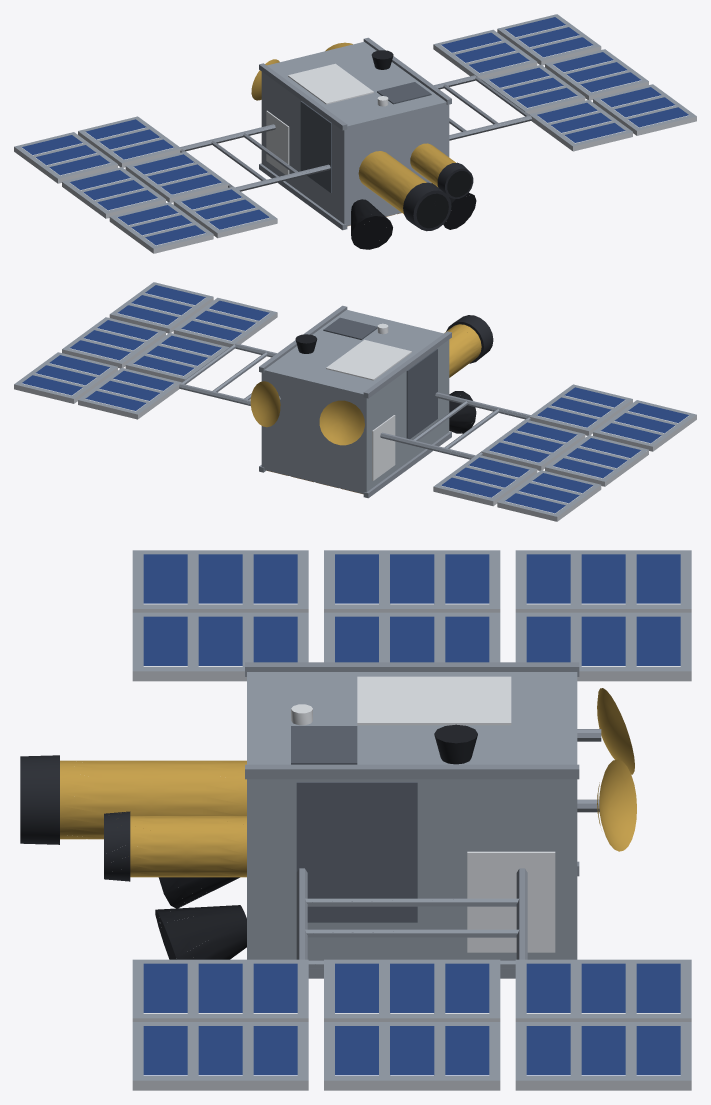
The model's file is kanopus-v.glb.
The picture shows the model from 3 angles, top to bottom: view 1: azimuth 30°, elevation 25°; view 2: azimuth 150°, elevation 25°; view 3: azimuth 270°, elevation 25°; orthographic projection. The views are drawn at different scales.
Visible parts, largest first — view 1: body, solar-panel, foil; view 2: body, solar-panel, foil; view 3: body, solar-panel, foil.
Part boxes in pixels (box(x1,y1,x2,y2)): body: box(14, 14, 696, 253); solar-panel: box(22, 17, 688, 245); foil: box(347, 143, 455, 226); body: box(14, 282, 696, 521); solar-panel: box(22, 285, 688, 513); foil: box(267, 324, 481, 494); body: box(20, 550, 691, 1090); solar-panel: box(143, 554, 680, 1075); foil: box(60, 760, 246, 877).
Bounding box in the file's own units: 5.7 × 1.25 × 3.06.
